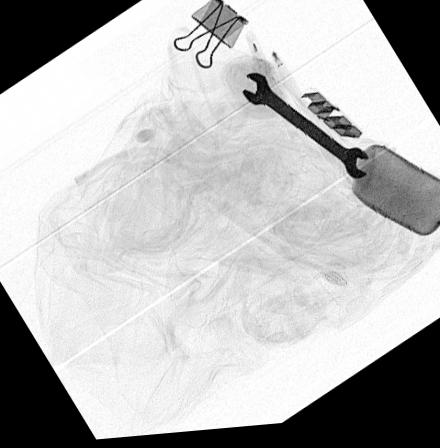Wrench: (237, 76, 368, 184)
